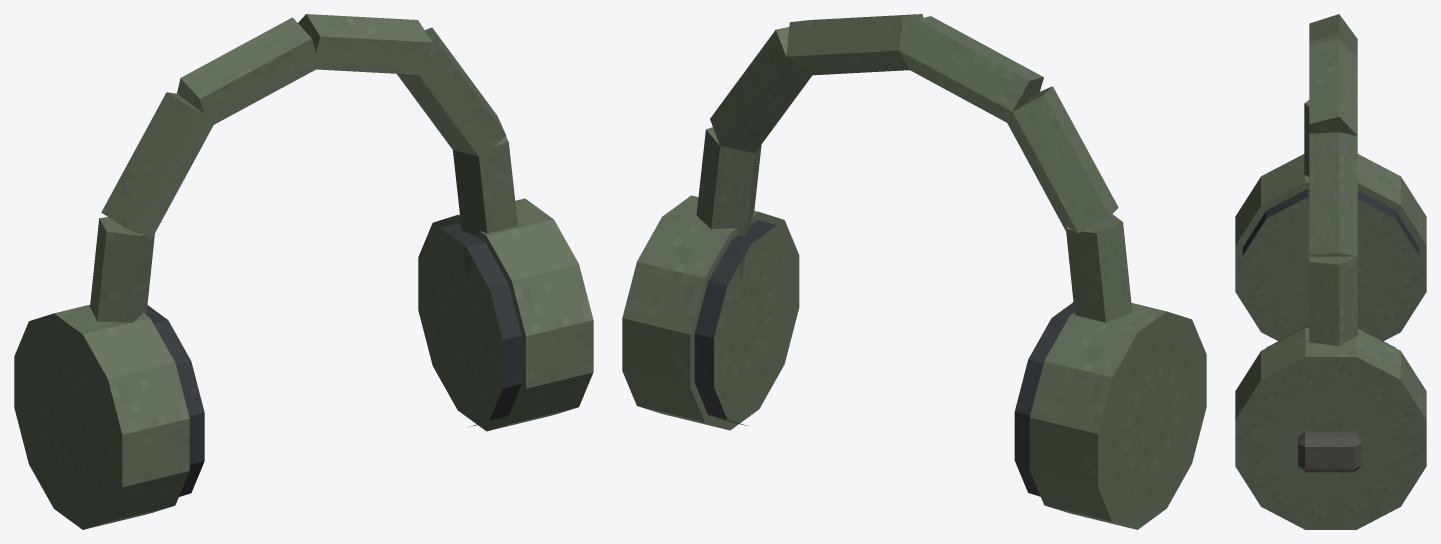
The model's file is powered_earmuffs.glb.
3 views of the same model, side by side, from view 1: azimuth 30°, elevation 25°; view 2: azimuth 150°, elevation 25°; view 3: azimuth 270°, elevation 25° (orthographic). The views are drawn at different scales.
Visible parts, largest first — view 1: block_ear cup (×2), block_arched headband 1, block_arched headband 2, block_cushion (×2), block_arched headband 3, block_arched headband 4, block_arched headband 0, block_arched headband 5; view 2: block_ear cup (×2), block_arched headband 1, block_arched headband 2, block_cushion (×2), block_arched headband 3, block_arched headband 4, block_arched headband 0, block_arched headband 5; view 3: block_ear cup (×2), block_arched headband 4, block_arched headband 3, block_arched headband 5, block_battery compartment, block_cushion, block_arched headband 2, block_arched headband 0.
Boxes of the visible parts, x1,y1,x2,y2 form: block_ear cup (×2): (14, 198, 593, 529); block_arched headband 1: (101, 92, 216, 239); block_arched headband 2: (177, 17, 319, 126); block_cushion (×2): (146, 223, 521, 496); block_arched headband 3: (298, 14, 432, 74); block_arched headband 4: (397, 27, 506, 156); block_arched headband 0: (90, 217, 154, 323); block_arched headband 5: (453, 136, 517, 282); block_ear cup (×2): (622, 195, 1206, 529); block_arched headband 1: (1007, 86, 1118, 233); block_arched headband 2: (899, 16, 1043, 122); block_cushion (×2): (694, 220, 1074, 496); block_arched headband 3: (786, 14, 923, 75); block_arched headband 4: (710, 27, 812, 153); block_arched headband 0: (1066, 214, 1132, 322); block_arched headband 5: (696, 127, 761, 287); block_ear cup (×2): (1235, 154, 1426, 529); block_arched headband 4: (1309, 132, 1357, 256); block_arched headband 3: (1309, 39, 1357, 135); block_arched headband 5: (1309, 256, 1357, 346); block_battery compartment: (1298, 431, 1361, 472); block_cushion: (1242, 189, 1419, 255); block_arched headband 2: (1309, 14, 1357, 57); block_arched headband 0: (1304, 100, 1309, 176).
Size of the model in its own units: 0.19 by 0.1635 by 0.0722.
1 material, 1 textured.
